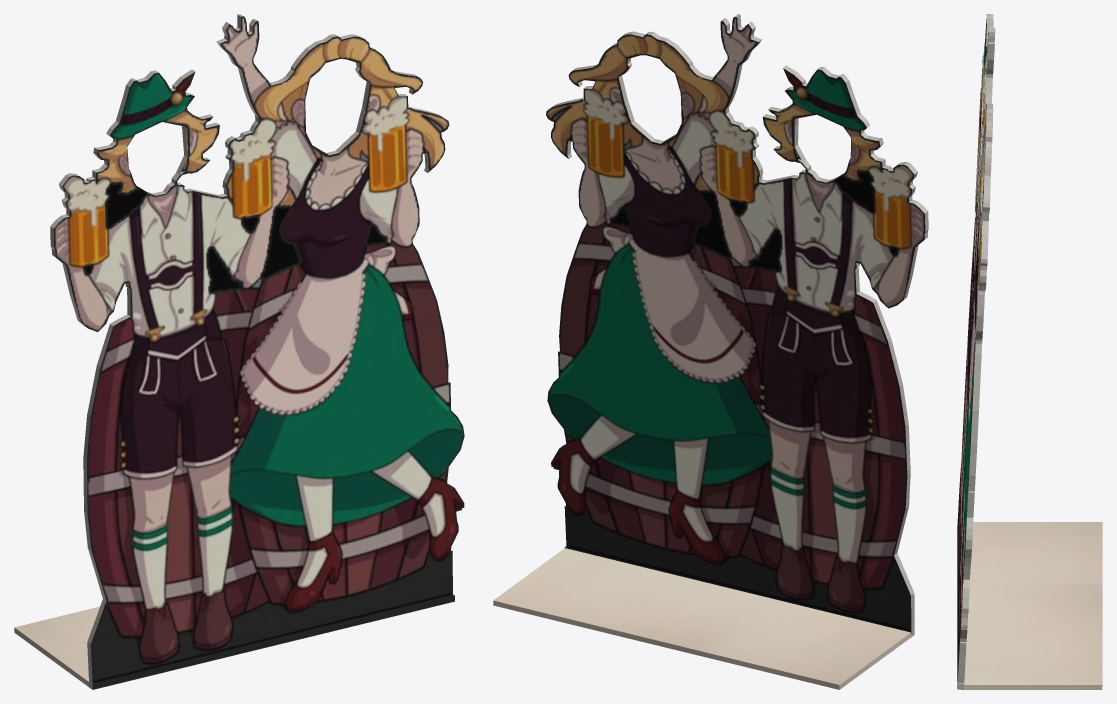
The model's file is board-cutout.glb.
3 views of the same model, side by side, from view 1: azimuth 30°, elevation 25°; view 2: azimuth 150°, elevation 25°; view 3: azimuth 270°, elevation 25° (orthographic). The views are drawn at different scales.
Parts seen in each view (by area): view 1: BoardCutout; view 2: BoardCutout; view 3: BoardCutout.
Boxes of the visible parts, bbox=[...] form: BoardCutout: bbox=[14, 14, 464, 689]; BoardCutout: bbox=[493, 14, 928, 689]; BoardCutout: bbox=[957, 14, 1102, 689].
Size of the model in its own units: 1.33 by 1.96 by 0.4502.
3 materials, 3 textured.
